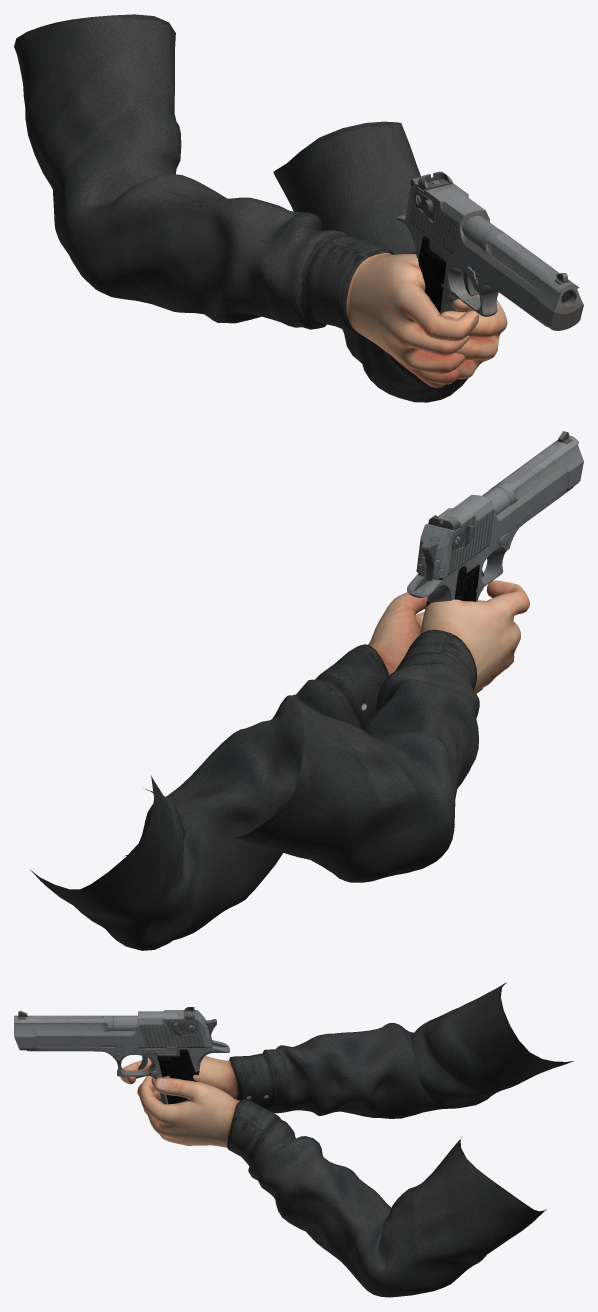
Rendered from idle_static.glb.
3 renders of one model, top to bottom at view 1: azimuth 30°, elevation 25°; view 2: azimuth 150°, elevation 25°; view 3: azimuth 270°, elevation 25°, orthographic. The views are drawn at different scales.
Visible parts, largest first — view 1: Object_7, base, slide; view 2: Object_7, base, slide; view 3: Object_7, base, slide.
Part boxes in pixels (bbox=[...]): Object_7: bbox=[14, 14, 507, 402]; base: bbox=[395, 214, 583, 330]; slide: bbox=[405, 171, 539, 315]; Object_7: bbox=[30, 580, 529, 950]; base: bbox=[407, 431, 583, 606]; slide: bbox=[416, 465, 567, 578]; Object_7: bbox=[120, 982, 573, 1297]; base: bbox=[14, 1010, 229, 1104]; slide: bbox=[36, 1007, 211, 1047].
Bounding box in the file's own units: 45.93 × 41.52 × 88.59.
Materials: 3 (2 with a texture image).
